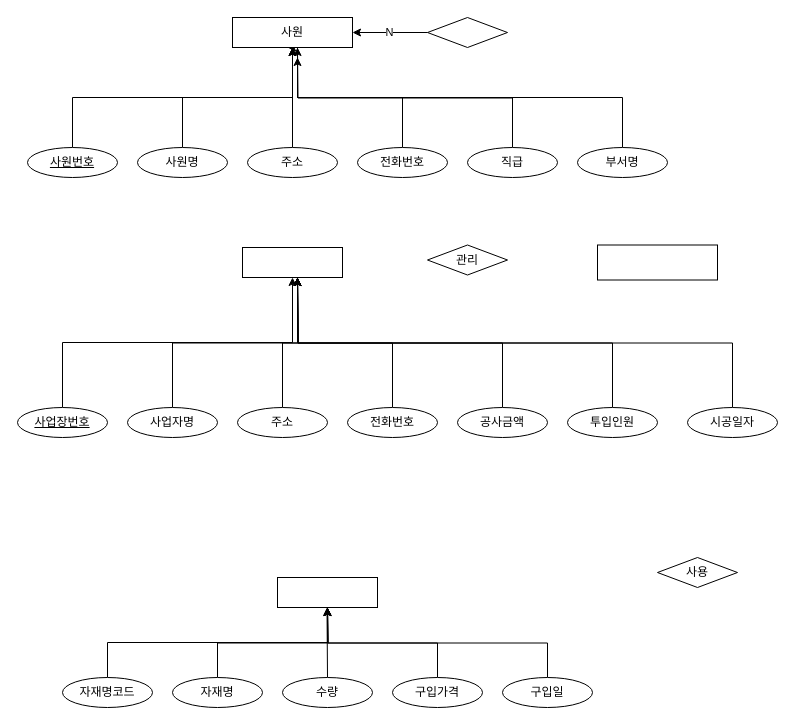
This 795x725 diagram has some shape labels left out. Each missing label, with the box of its shape:
근무: (426, 16, 508, 48)
사업자재: (276, 576, 378, 608)
사업장: (242, 246, 342, 278)
